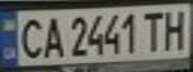1: (118, 9, 142, 54)
2: (66, 12, 87, 59)
4: (84, 11, 106, 56), (103, 10, 124, 55)
A: (39, 13, 66, 60)
C: (15, 15, 48, 60)
H: (157, 7, 193, 51)
T: (139, 8, 169, 53)
